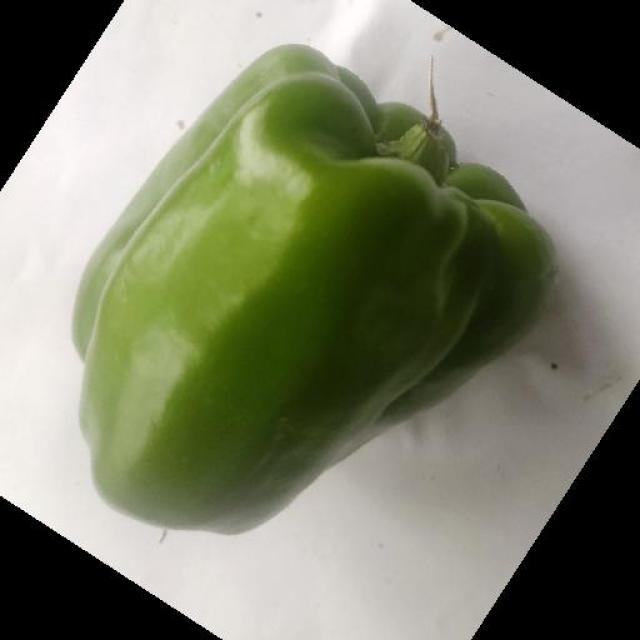Fresh_Capsicum: (70, 56, 516, 532)
